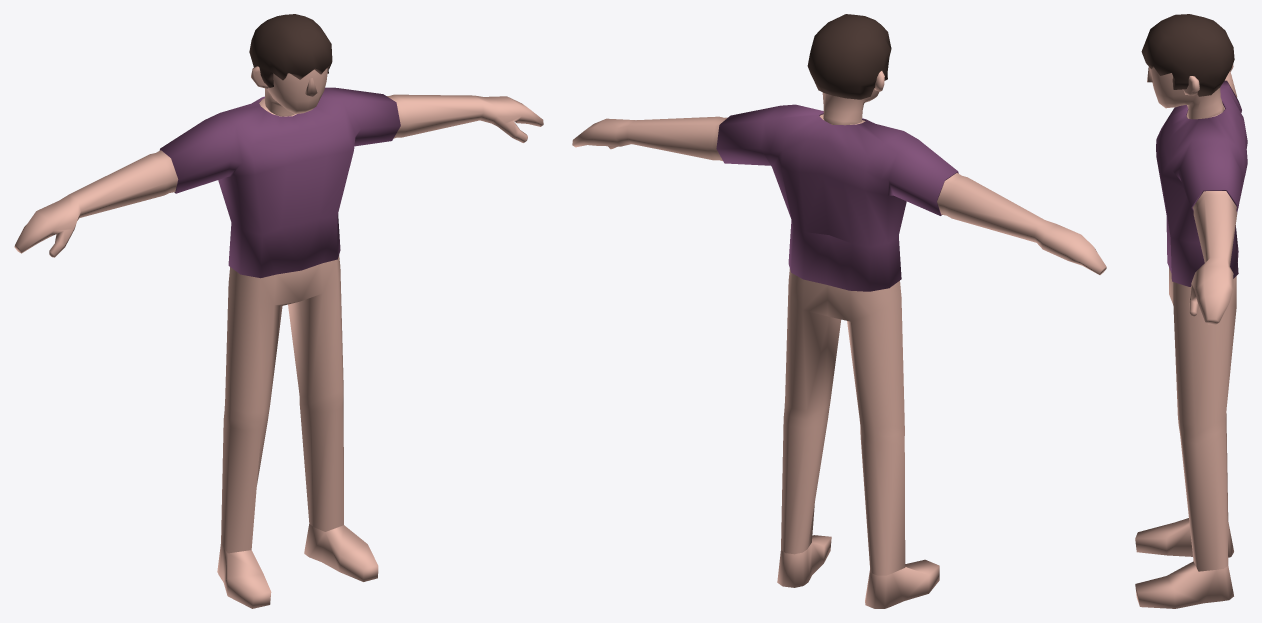
Rendered from WIP_Man.fbx.
3 renders of one model, left to right at view 1: azimuth 30°, elevation 25°; view 2: azimuth 150°, elevation 25°; view 3: azimuth 270°, elevation 25°, orthographic.
Visible parts, largest first — view 1: Circle.002; view 2: Circle.002; view 3: Circle.002.
Part boxes in pixels (x1,y1,x2,y2): Circle.002: [14, 14, 543, 608]; Circle.002: [572, 14, 1106, 608]; Circle.002: [1135, 14, 1247, 608].
Bounding box in the file's own units: 43.19 × 43.85 × 8.02.
